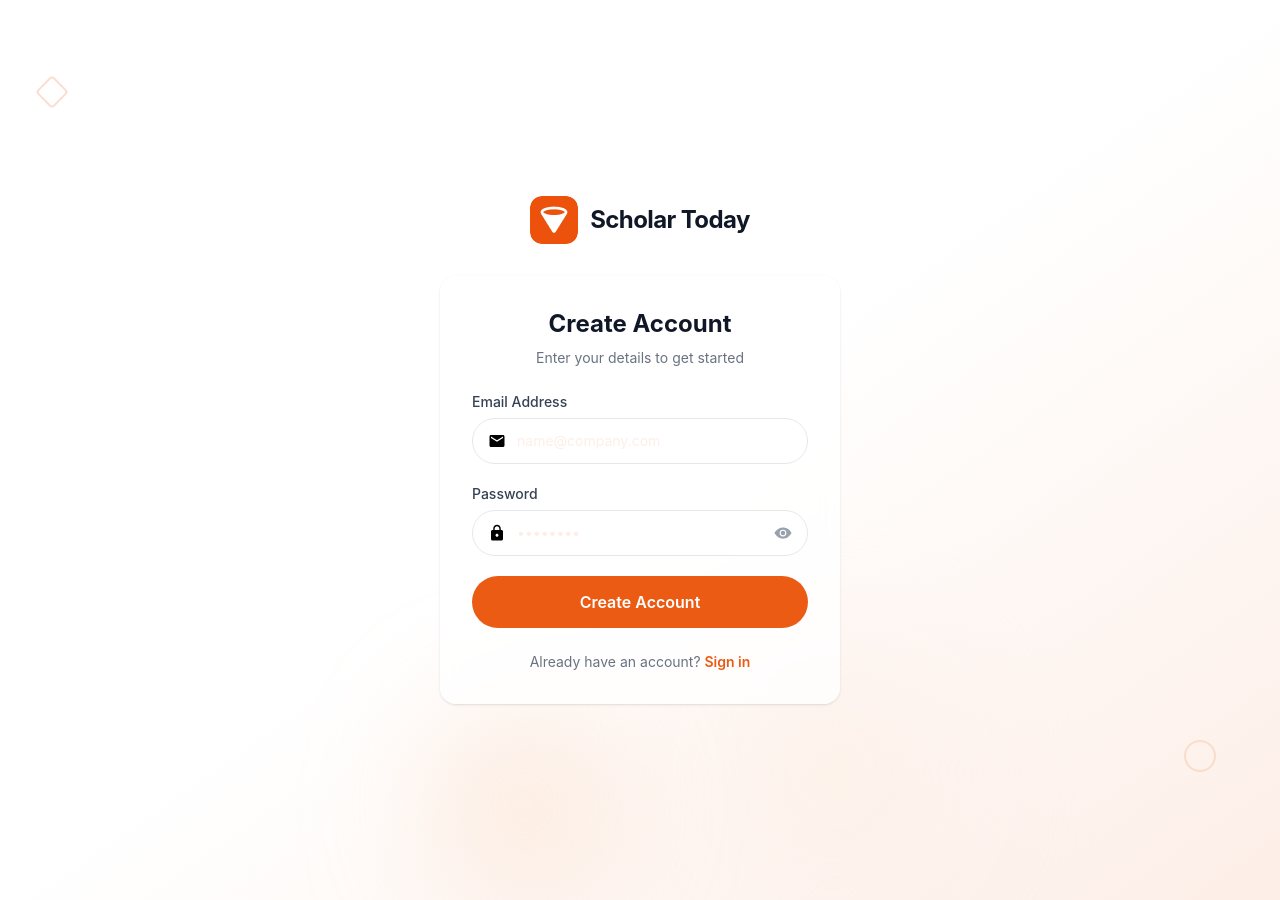
Test: RegisterPage › Validation › should show error when email format is invalid
This screenshot has width=1280, height=900.
Type "invalid-email" into the field labelled "Email Address" at (640, 441), box 472,418 -> 808,464
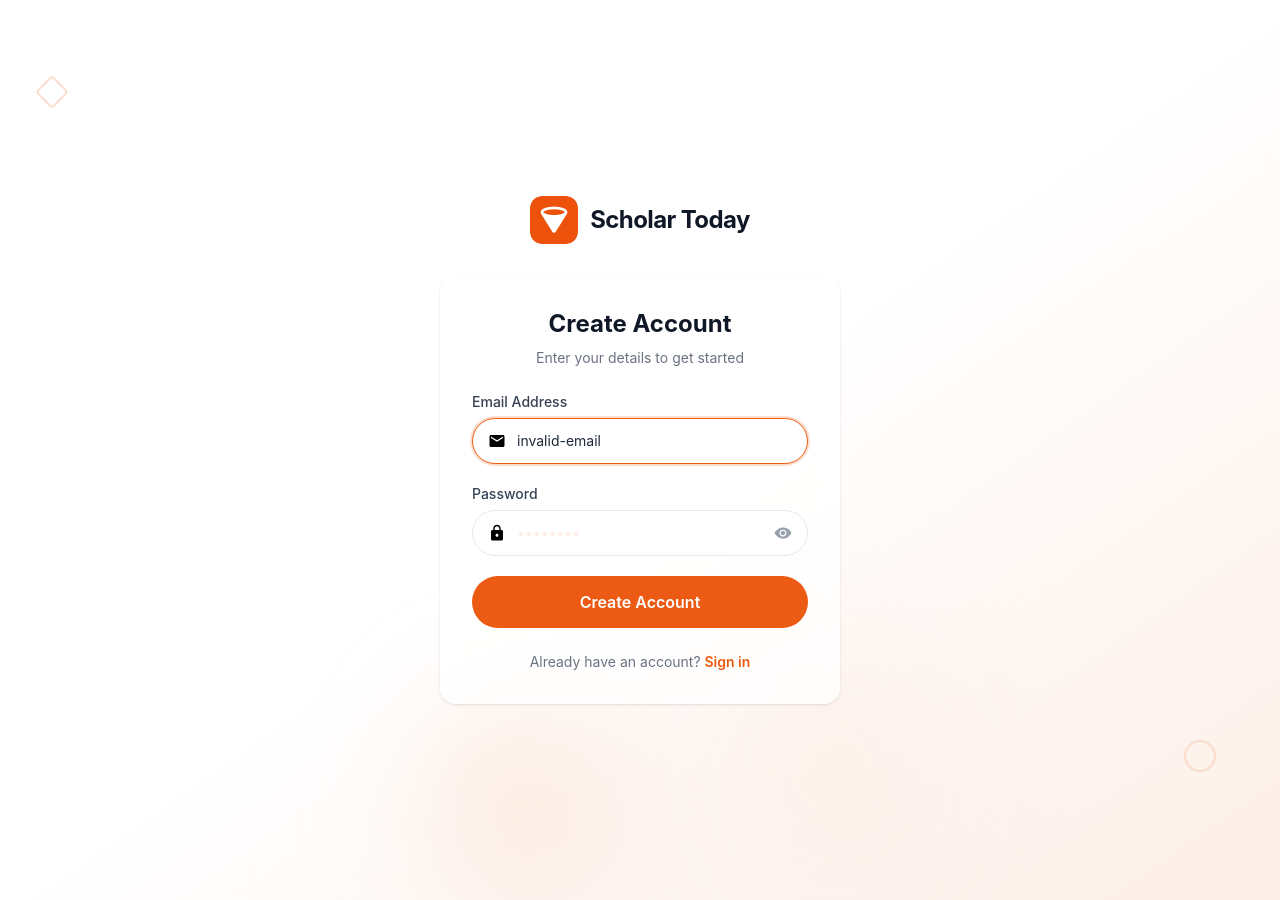
Type "password123" into the password field labelled "Password" at (640, 533), box 472,510 -> 808,556
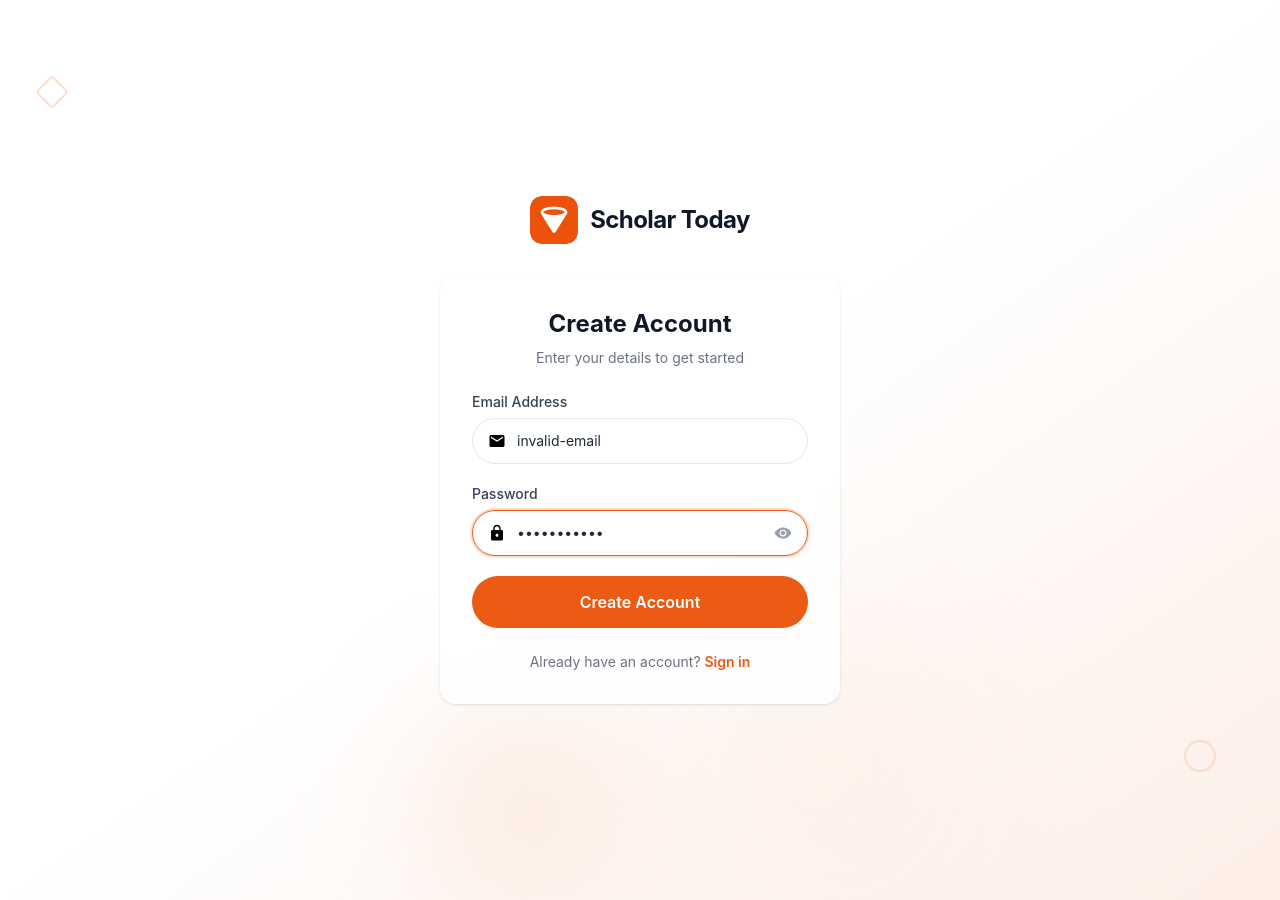
Click the button "Create Account" at (640, 602), box 472,576 -> 808,628
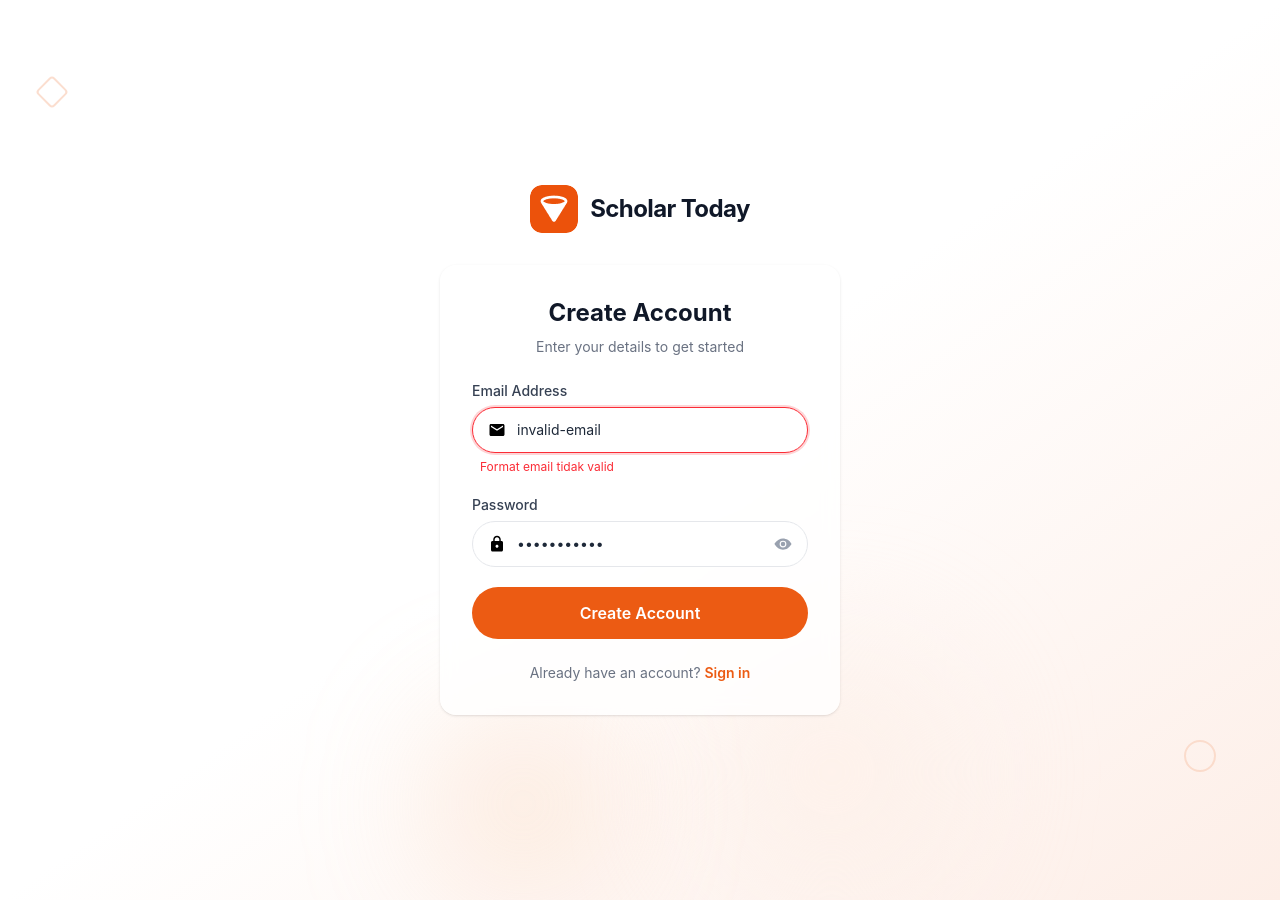
Result: the text "Format email tidak valid" is shown at 480,459 -> 614,474
